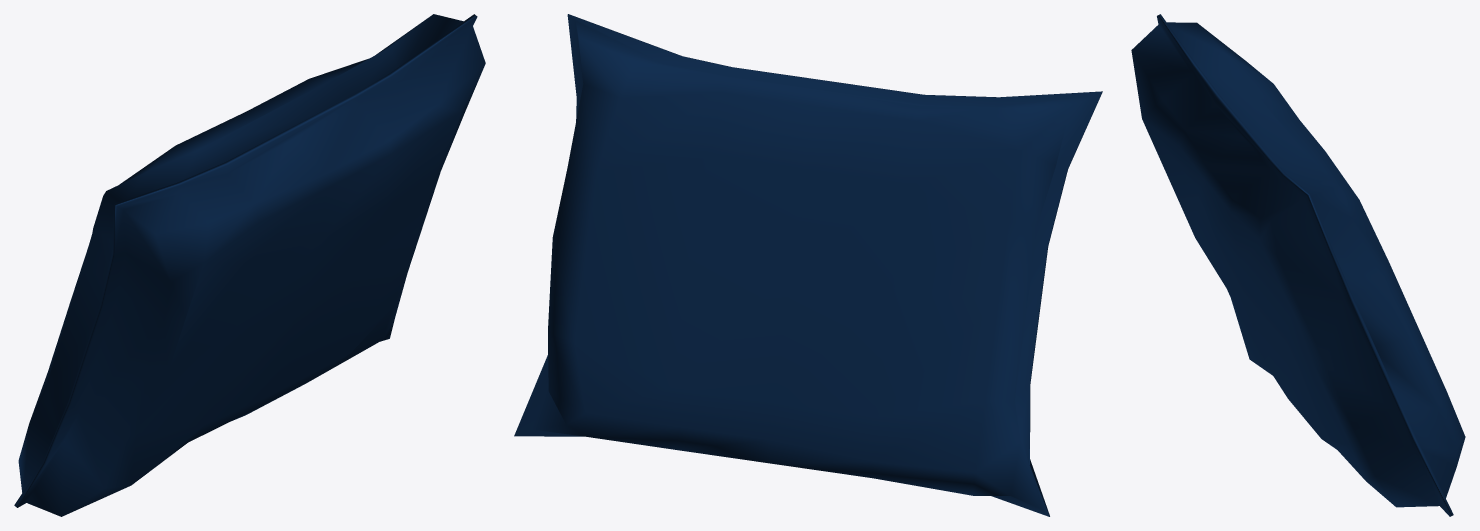
Rendered from Kussen groot.fbx.
3 views of the same model, side by side, from view 1: azimuth 30°, elevation 25°; view 2: azimuth 150°, elevation 25°; view 3: azimuth 270°, elevation 25° (orthographic). The views are drawn at different scales.
Parts seen in each view (by area): view 1: Group1; view 2: Group1; view 3: Group1.
Boxes of the visible parts, x1=… form: Group1: x1=14, y1=14, x2=485, y2=516; Group1: x1=514, y1=14, x2=1102, y2=516; Group1: x1=1131, y1=14, x2=1465, y2=516.
Size of the model in its own units: 450 by 352 by 294.
